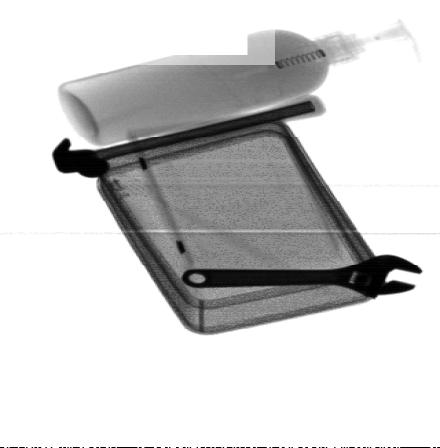Hammer: (51, 93, 328, 178)
Wrench: (180, 253, 422, 300)
